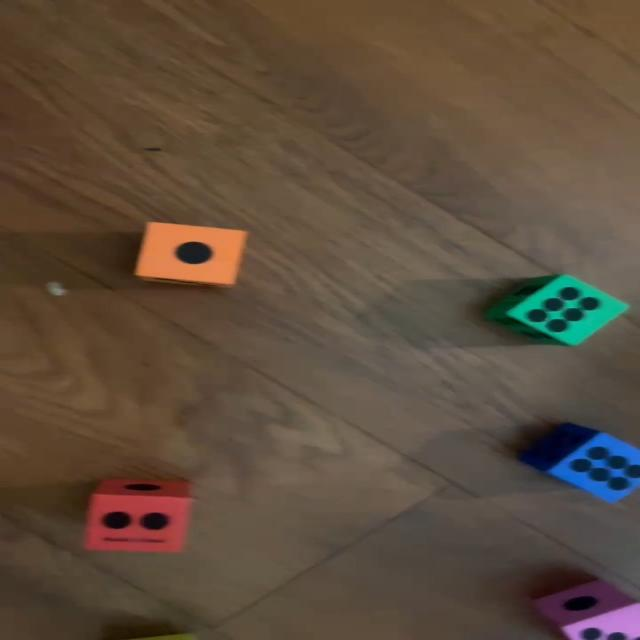blue_block: (524, 426, 640, 504)
red_block: (85, 477, 194, 552)
